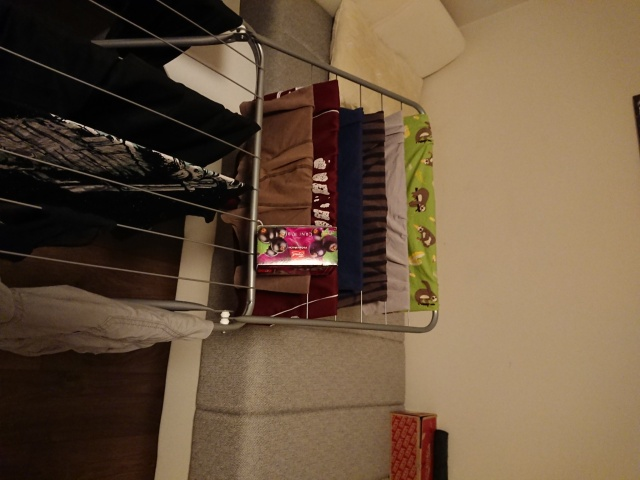Franck Black Currant Tea 60g: (253, 222, 341, 278)
